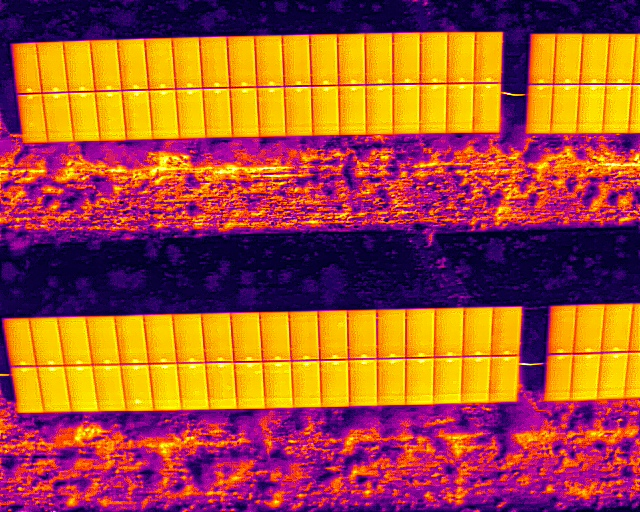photovoltaic_panels: (10, 30, 504, 144), (3, 305, 523, 413), (523, 32, 637, 134), (543, 303, 638, 402)
single_spot: (120, 363, 154, 411)
